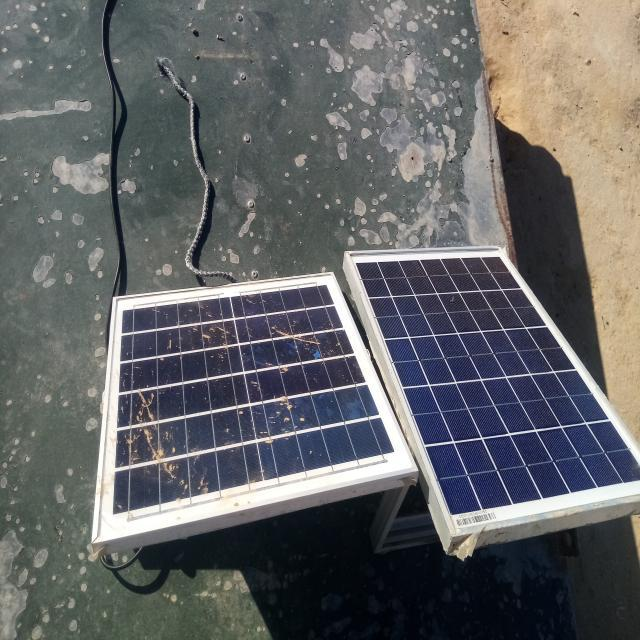faulty: (92, 270, 416, 545)
no faulty: (345, 246, 640, 535)
